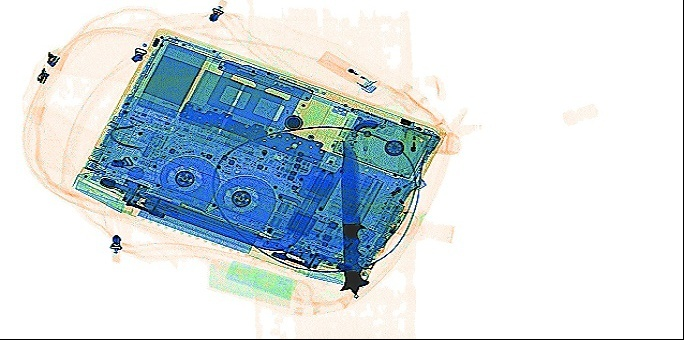knife: (337, 137, 369, 298)
lighter: (314, 47, 379, 94), (366, 173, 428, 216), (370, 201, 408, 249), (391, 115, 417, 175)
